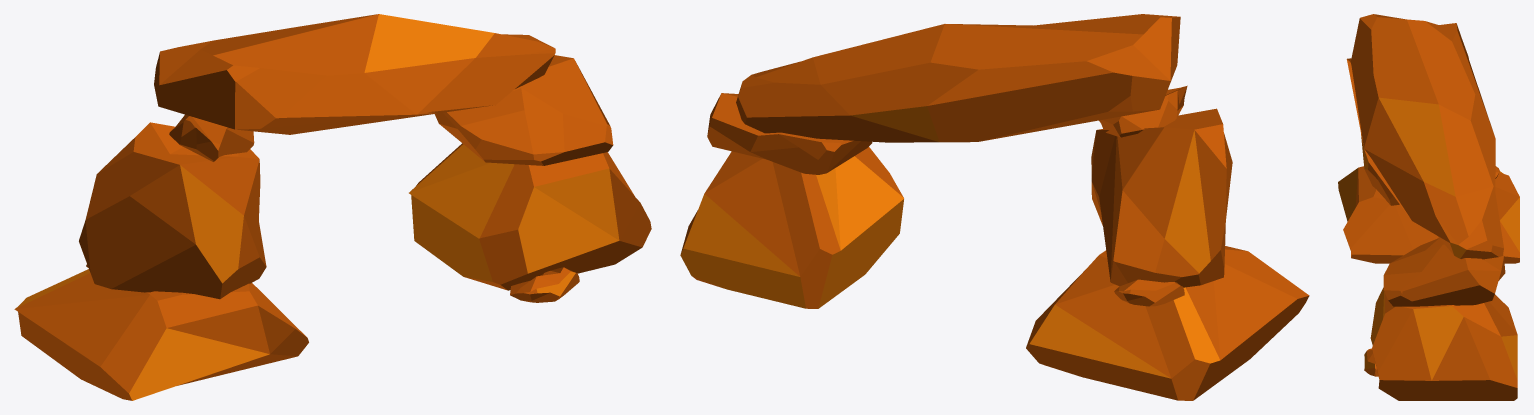
File: stone4.fbx
3 renders of one model, left to right at view 1: azimuth 30°, elevation 25°; view 2: azimuth 150°, elevation 25°; view 3: azimuth 270°, elevation 25°, orthographic. The views are drawn at different scales.
Parts seen in each view (by area): view 1: Cube.034; view 2: Cube.034; view 3: Cube.034.
Boxes of the visible parts, x1,y1,x2,y2 form: Cube.034: [14, 14, 651, 400]; Cube.034: [680, 14, 1309, 400]; Cube.034: [1338, 14, 1519, 400].
Bounding box in the file's own units: 686 × 358 × 250.
